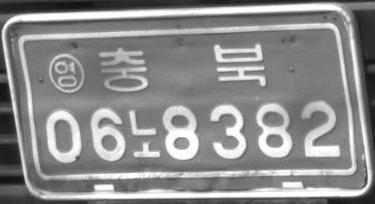0: (45, 109, 81, 164)
2: (301, 100, 341, 157)
3: (209, 103, 247, 160)
6: (89, 106, 125, 162)
8: (162, 104, 199, 161), (256, 102, 292, 158)
노: (128, 109, 161, 158)
영: (48, 52, 85, 94)
충북_D: (98, 43, 267, 92)
